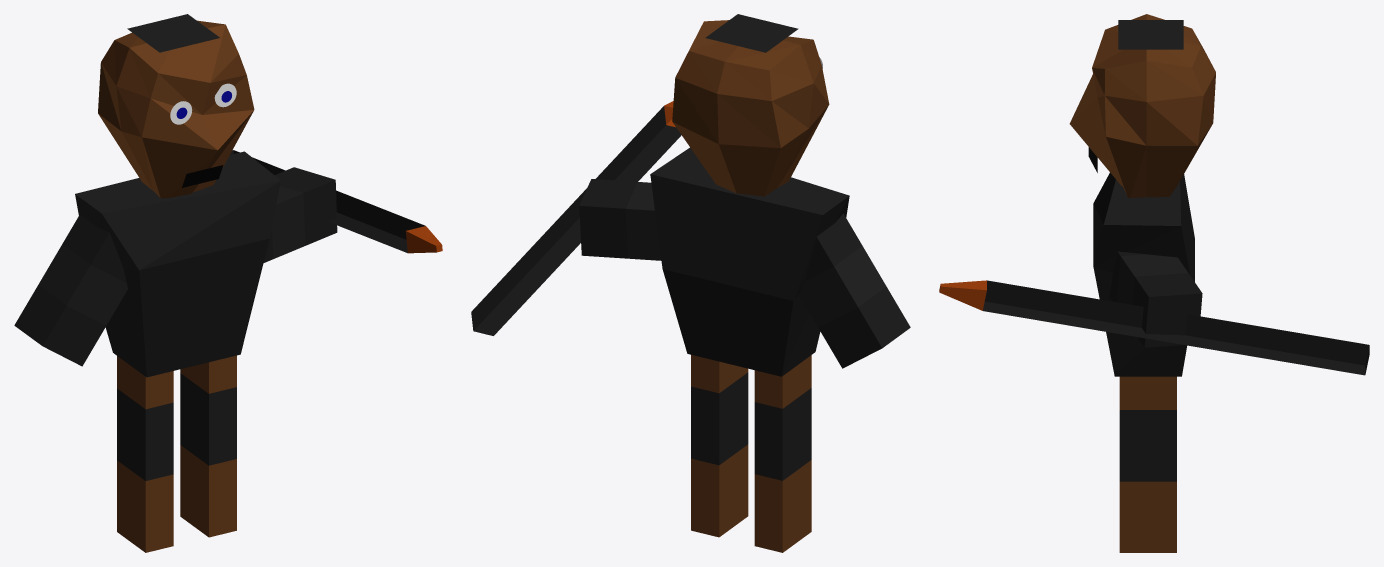
Rendered from spearman2f.obj.
3 renders of one model, left to right at view 1: azimuth 30°, elevation 25°; view 2: azimuth 150°, elevation 25°; view 3: azimuth 270°, elevation 25°, orthographic.
Visible parts, largest first — view 1: Cube.001, Cube, Cube.004, Cube.003, Cube.005, Cube.002, Cube.007, Plane.002; view 2: Cube.001, Cube, Cube.004, Cube.005, Cube.003, Cube.007, Cube.002, Plane.002; view 3: Cube, Cube.007, Cube.005, Cube.001, Cube.002, Plane.002.
Boxes of the visible parts, x1,y1,x2,y2 form: Cube.001: (75, 151, 280, 377); Cube: (98, 20, 254, 198); Cube.004: (117, 356, 173, 552); Cube.003: (14, 214, 127, 366); Cube.005: (180, 355, 236, 537); Cube.002: (263, 167, 337, 262); Cube.007: (230, 150, 442, 253); Plane.002: (127, 14, 219, 52); Cube.001: (650, 147, 849, 376); Cube: (672, 20, 829, 196); Cube.004: (754, 355, 811, 552); Cube.005: (691, 354, 748, 537); Cube.003: (799, 213, 910, 368); Cube.007: (471, 101, 681, 335); Cube.002: (579, 179, 661, 260); Plane.002: (705, 14, 798, 52); Cube: (1069, 14, 1215, 197); Cube.007: (939, 280, 1369, 375); Cube.005: (1119, 376, 1176, 552); Cube.001: (1093, 172, 1194, 376); Cube.002: (1109, 251, 1202, 347); Plane.002: (1118, 20, 1183, 49).
Bounding box in the file's own units: 3.88 × 5.87 × 4.62.
